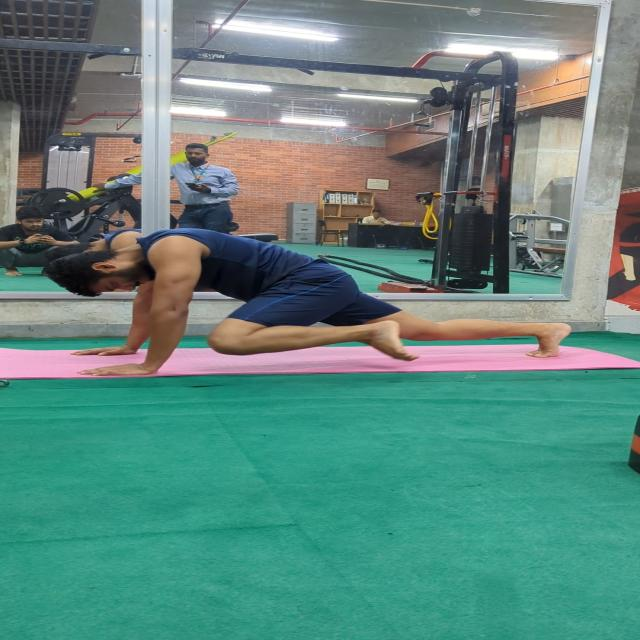Normal_MountainClimbers: (65, 228, 599, 386)
